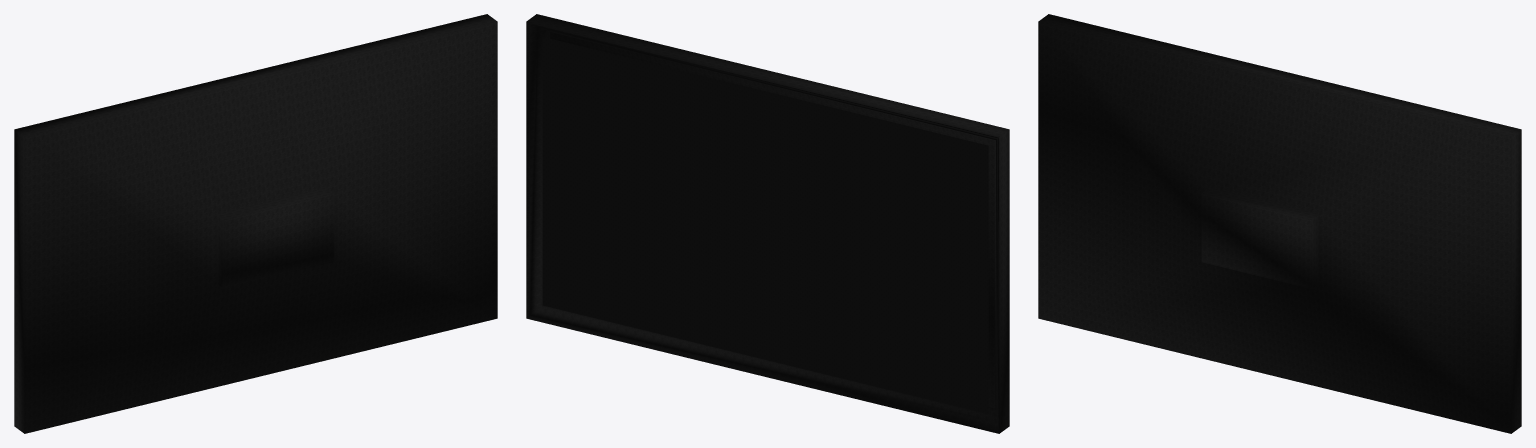
The picture shows the model from 3 angles, left to right: view 1: azimuth 30°, elevation 25°; view 2: azimuth 150°, elevation 25°; view 3: azimuth 330°, elevation 25°; orthographic projection.
Parts seen in each view (by area): view 1: TV; view 2: TV; view 3: TV.
Boxes of the visible parts, x1,y1,x2,y2 form: TV: (14,14,497,433); TV: (526,14,1009,433); TV: (1038,14,1521,433).
Bounding box in the file's own units: 41.34 × 24.8 × 4.33.
